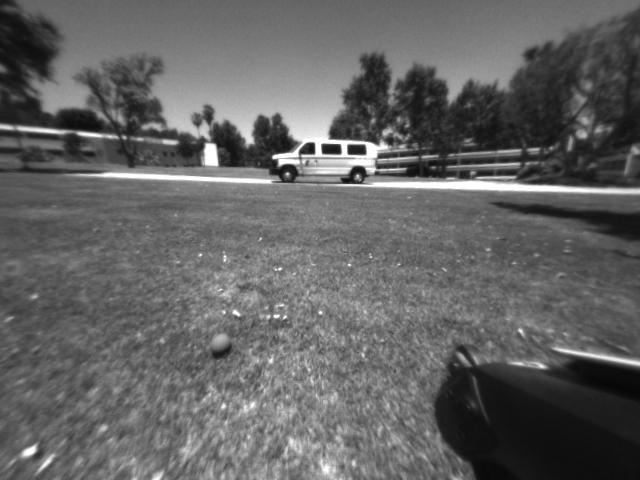dogtoy: (203, 324, 242, 360)
